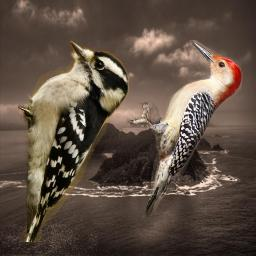Woodpecker: (18, 40, 129, 242), (126, 40, 245, 218)
